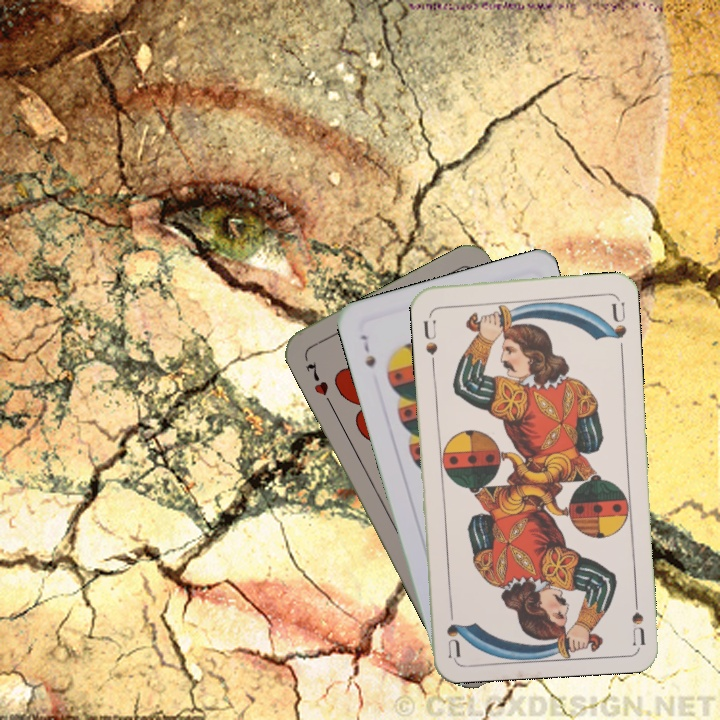H7: (302, 359, 335, 408)
S7: (356, 331, 379, 371)
SU: (627, 587, 649, 646), (419, 316, 440, 357)
